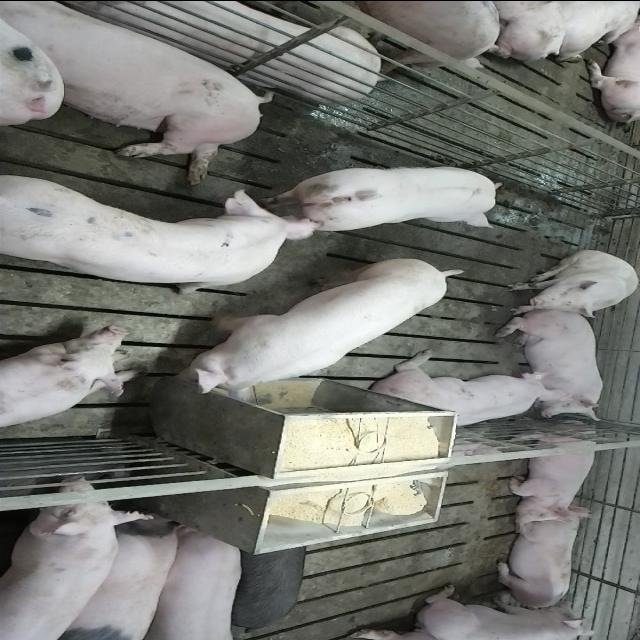Feeding: (166, 262, 474, 408)
Lateral_lying: (4, 5, 278, 186), (62, 0, 380, 102)
Sitting: (502, 250, 637, 318)
Standing: (4, 176, 328, 296), (1, 476, 150, 638), (47, 514, 193, 638), (262, 160, 506, 230), (292, 0, 501, 70), (137, 524, 245, 637), (226, 529, 313, 635)
Sternal_lying: (0, 329, 138, 434), (366, 356, 556, 431), (502, 313, 612, 419), (413, 584, 603, 638), (491, 510, 589, 609), (504, 425, 602, 522)
